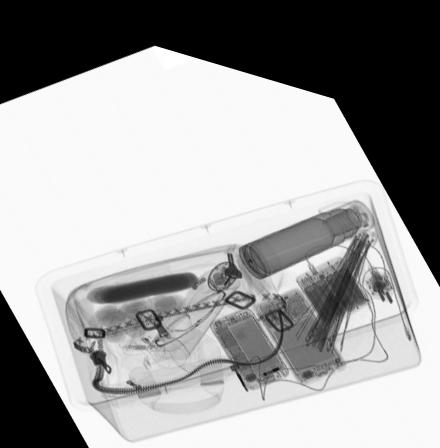Powerbank: (290, 234, 370, 304)
